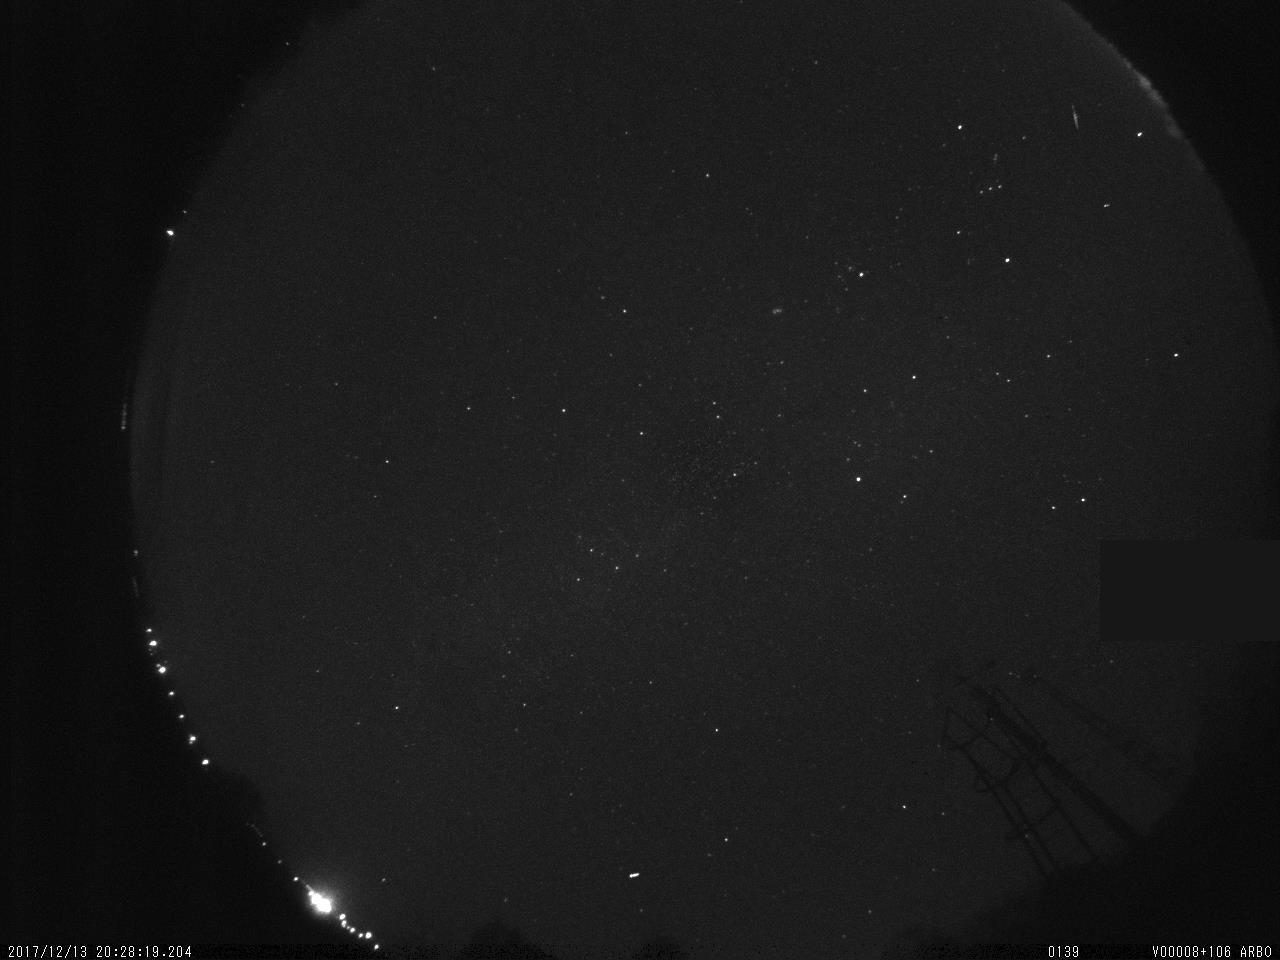Meteor: (1065, 97, 1085, 140)
